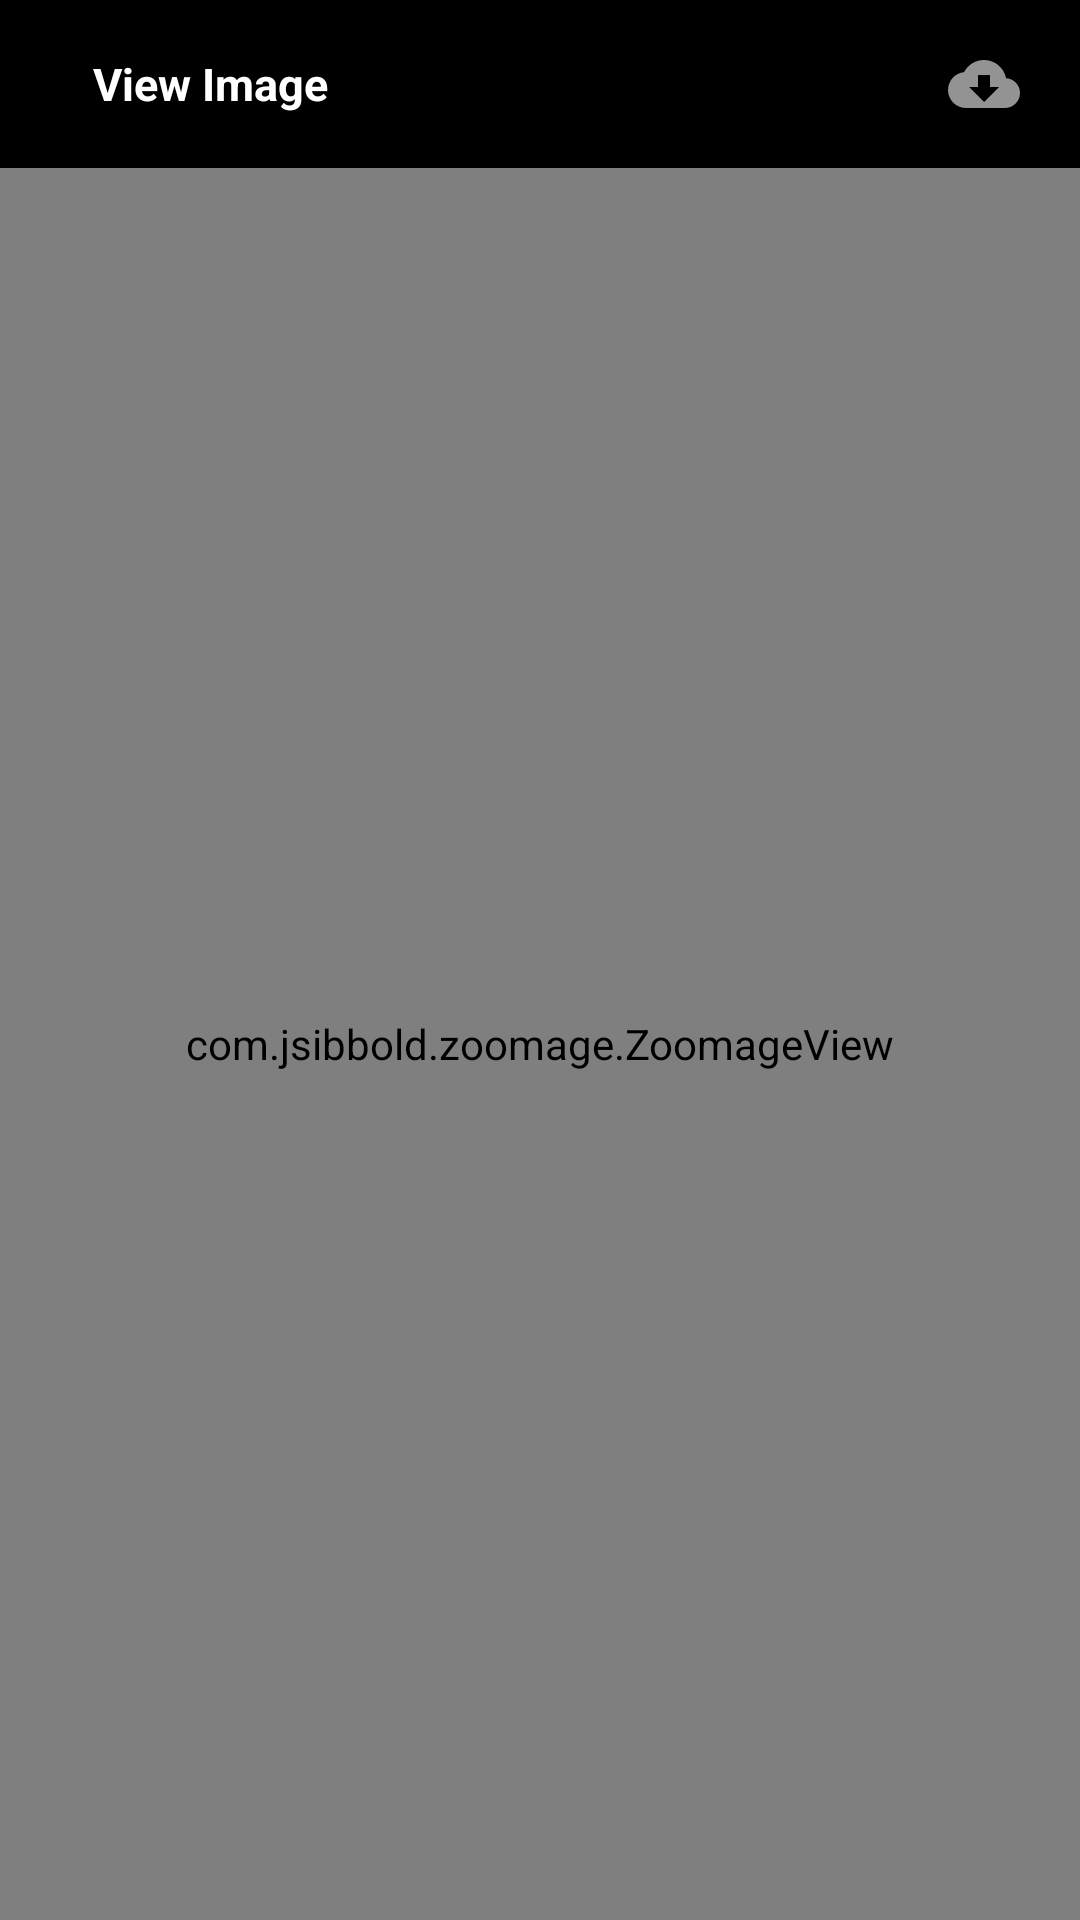

Where to tap for icons on this 1080 × 1920 app screen, as (x=x, y=y):
download: (x=984, y=84)
